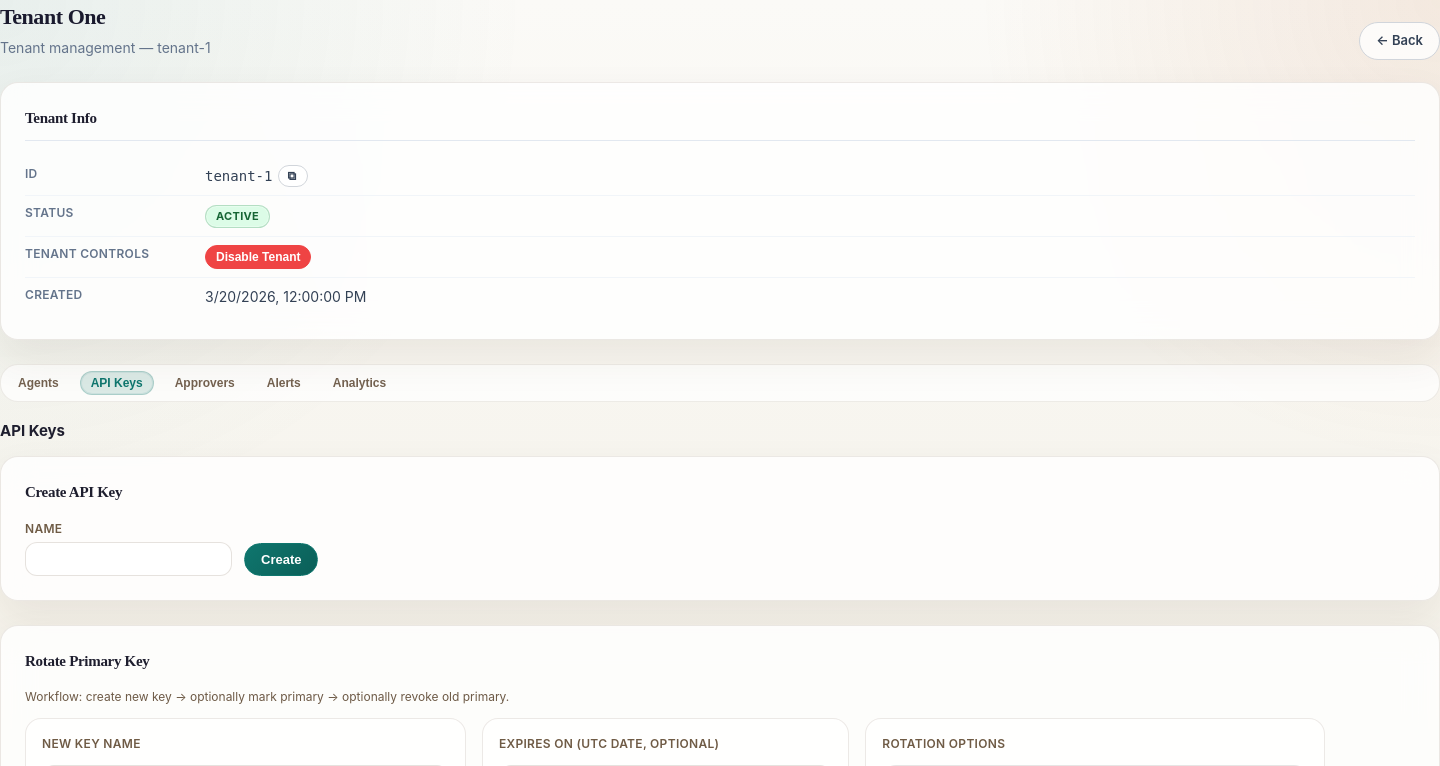
Scenario: Tenant detail page › drops stale notification config state when a later refetch can no longer load it
The image size is (1440, 766).
Click the button "Agents" at coordinates (38, 382), box [7,370,70,394]
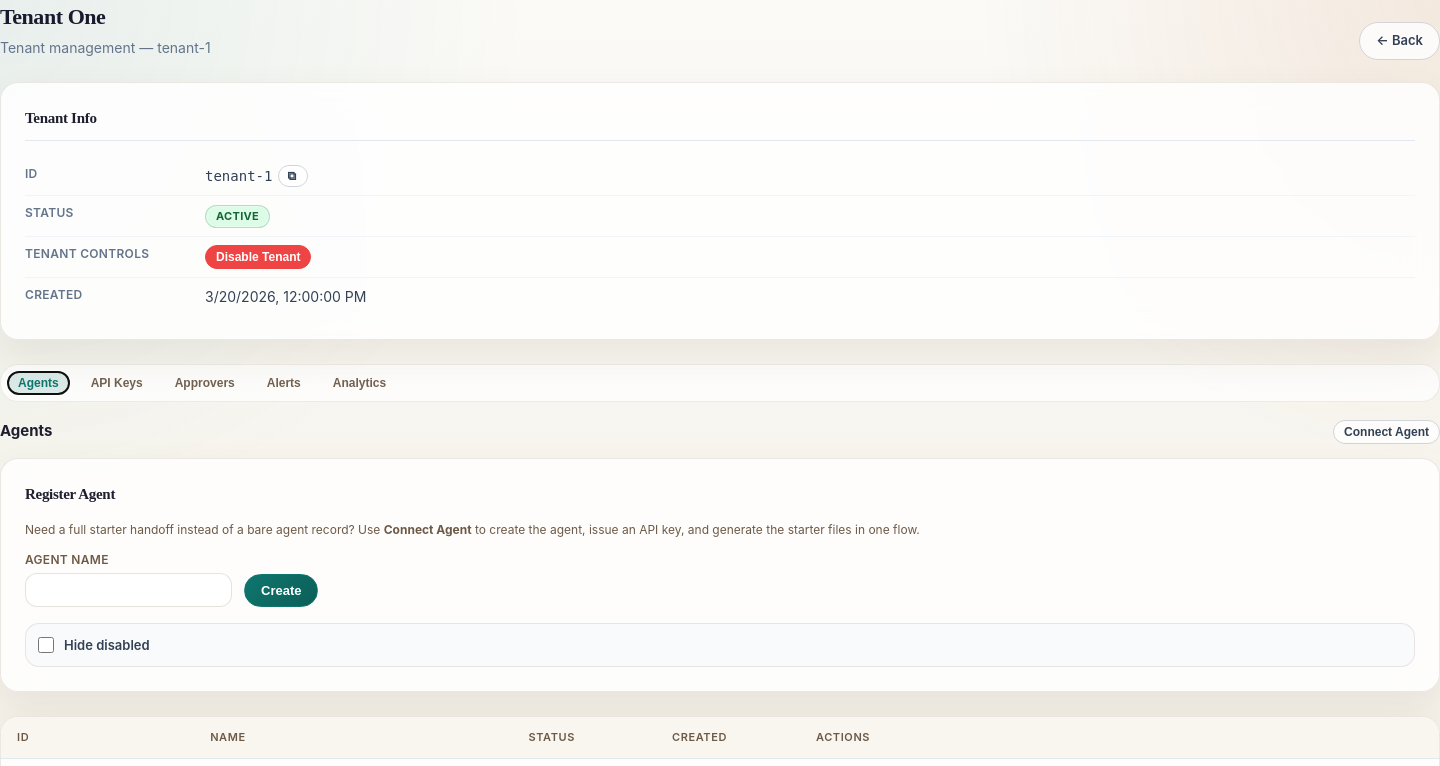
Click the checkbox labelled "Hide disabled" at coordinates (46, 645), box [38,637,54,653]
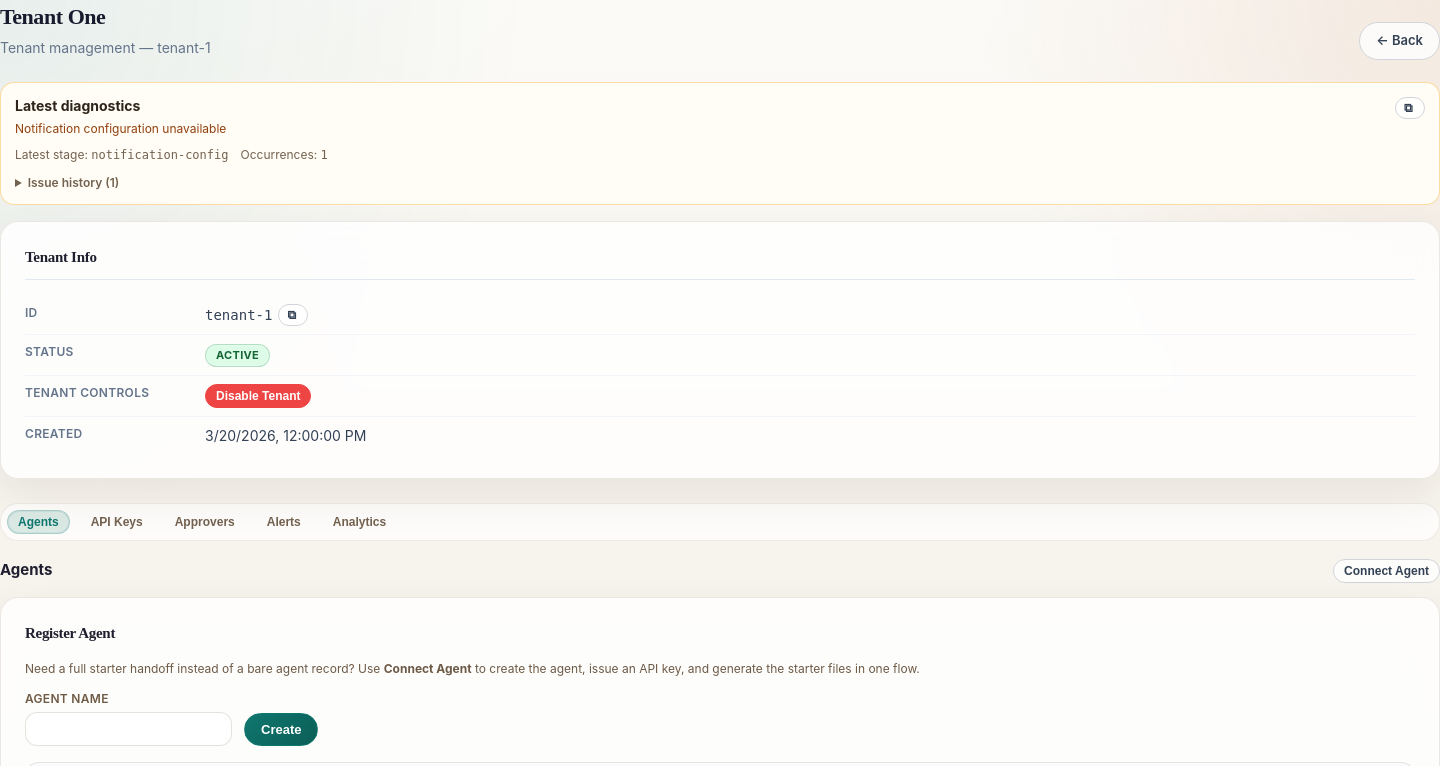
Click the button "API Keys" at coordinates (117, 522), box [80,510,154,534]
(page scrolled)
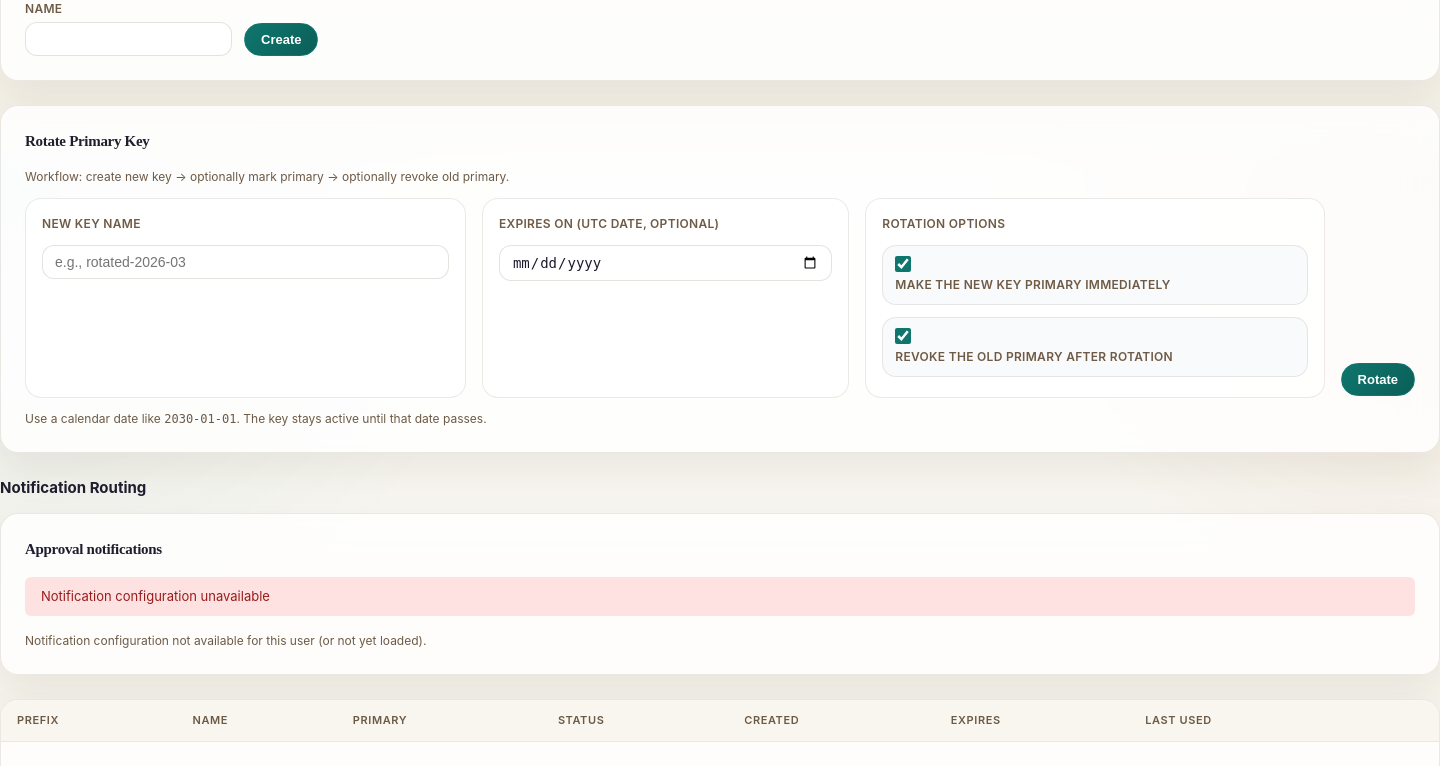
Now the text "Notification configuration unavailable" is shown, box [25,577,1415,616]
